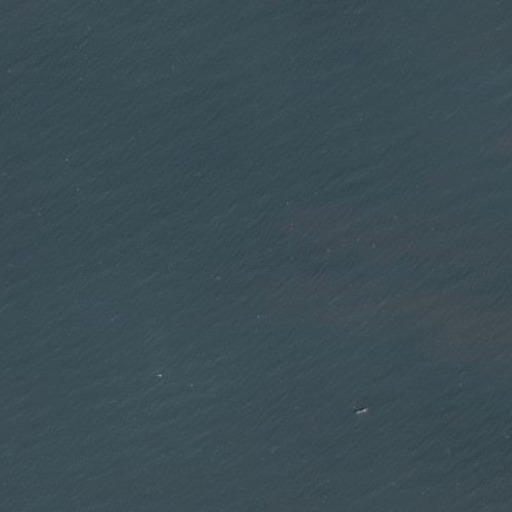ship: (353, 403, 372, 416)
